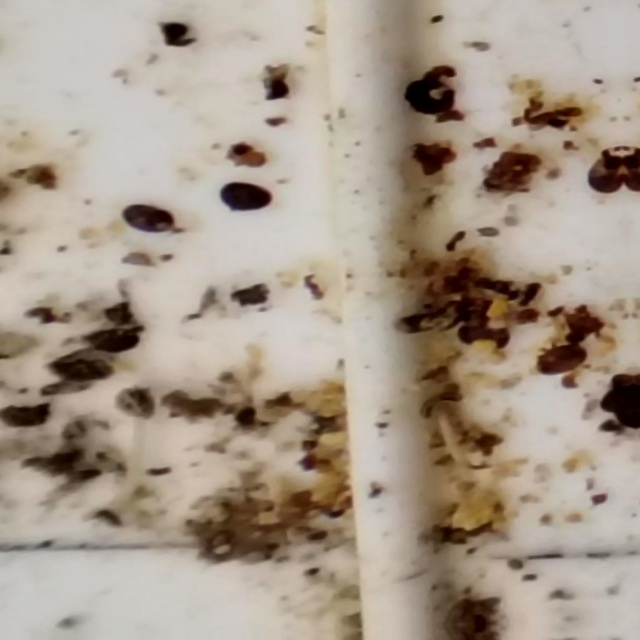varroa: (114, 203, 175, 242), (213, 178, 275, 216), (45, 353, 113, 386), (76, 326, 140, 356)
